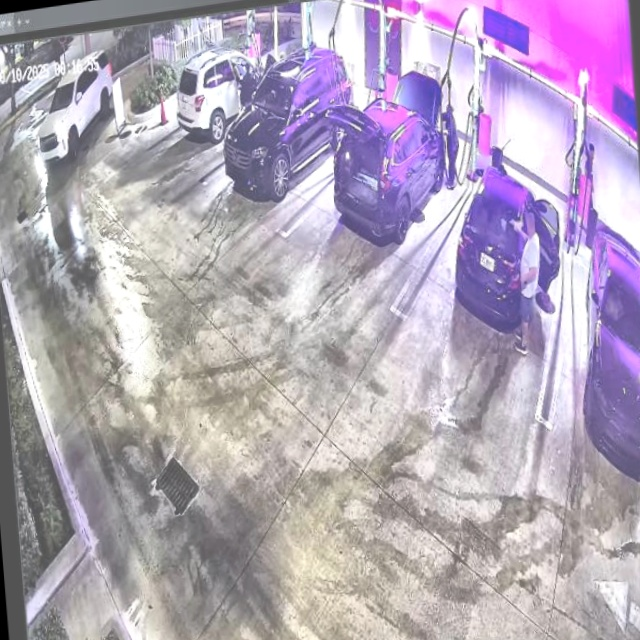Car: (328, 68, 452, 253), (217, 42, 360, 200), (447, 155, 569, 339)
